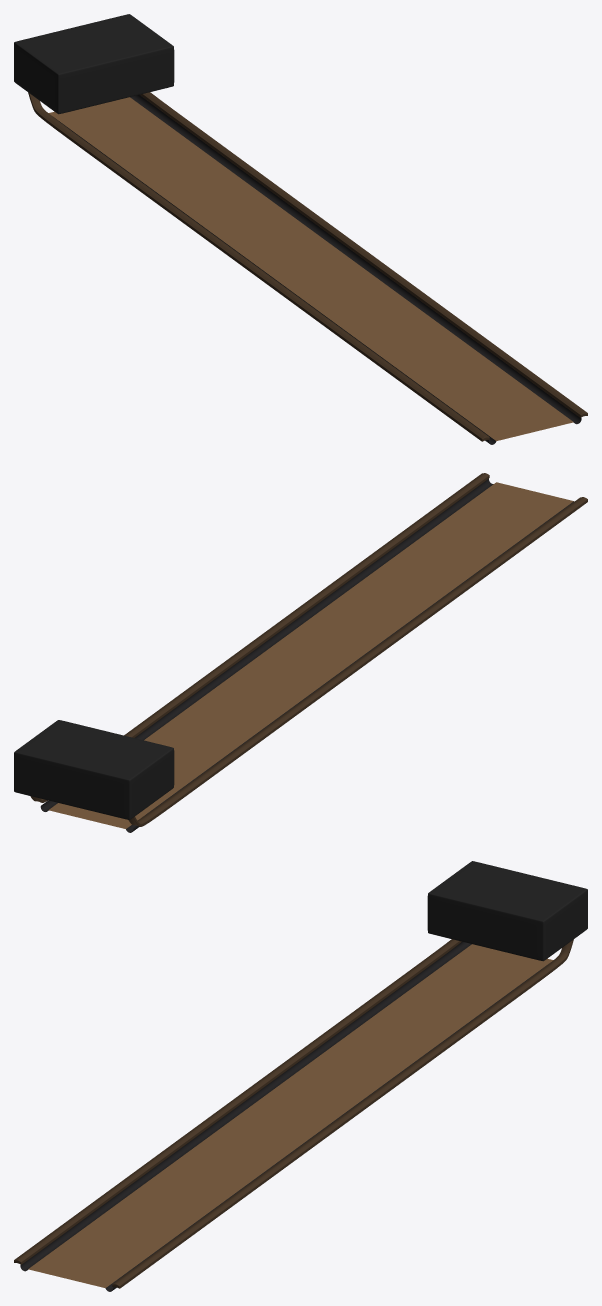
File: Bowling Alley.fbx
3 views of the same model, one above another, from view 1: azimuth 30°, elevation 25°; view 2: azimuth 150°, elevation 25°; view 3: azimuth 330°, elevation 25° (orthographic).
Visible parts, largest first — view 1: Plane, Cube.001, Cube, Cylinder; view 2: Plane, Cube.001, Cube, Cylinder; view 3: Plane, Cube.001, Cube, Cylinder.
Part boxes in pixels (left/top/right/bottom): Plane: left=48, top=97, right=573, bottom=440; Cube.001: left=14, top=14, right=174, bottom=114; Cube: left=28, top=92, right=587, bottom=441; Cylinder: left=52, top=94, right=581, bottom=444; Plane: left=48, top=482, right=573, bottom=828; Cube.001: left=14, top=720, right=174, bottom=819; Cube: left=30, top=473, right=587, bottom=826; Cylinder: left=40, top=479, right=574, bottom=832; Plane: left=28, top=944, right=553, bottom=1288; Cube.001: left=427, top=861, right=587, bottom=961; Cube: left=14, top=939, right=573, bottom=1288; Cylinder: left=20, top=941, right=549, bottom=1291.
Size of the model in its own units: 3000 by 1666 by 20686.
